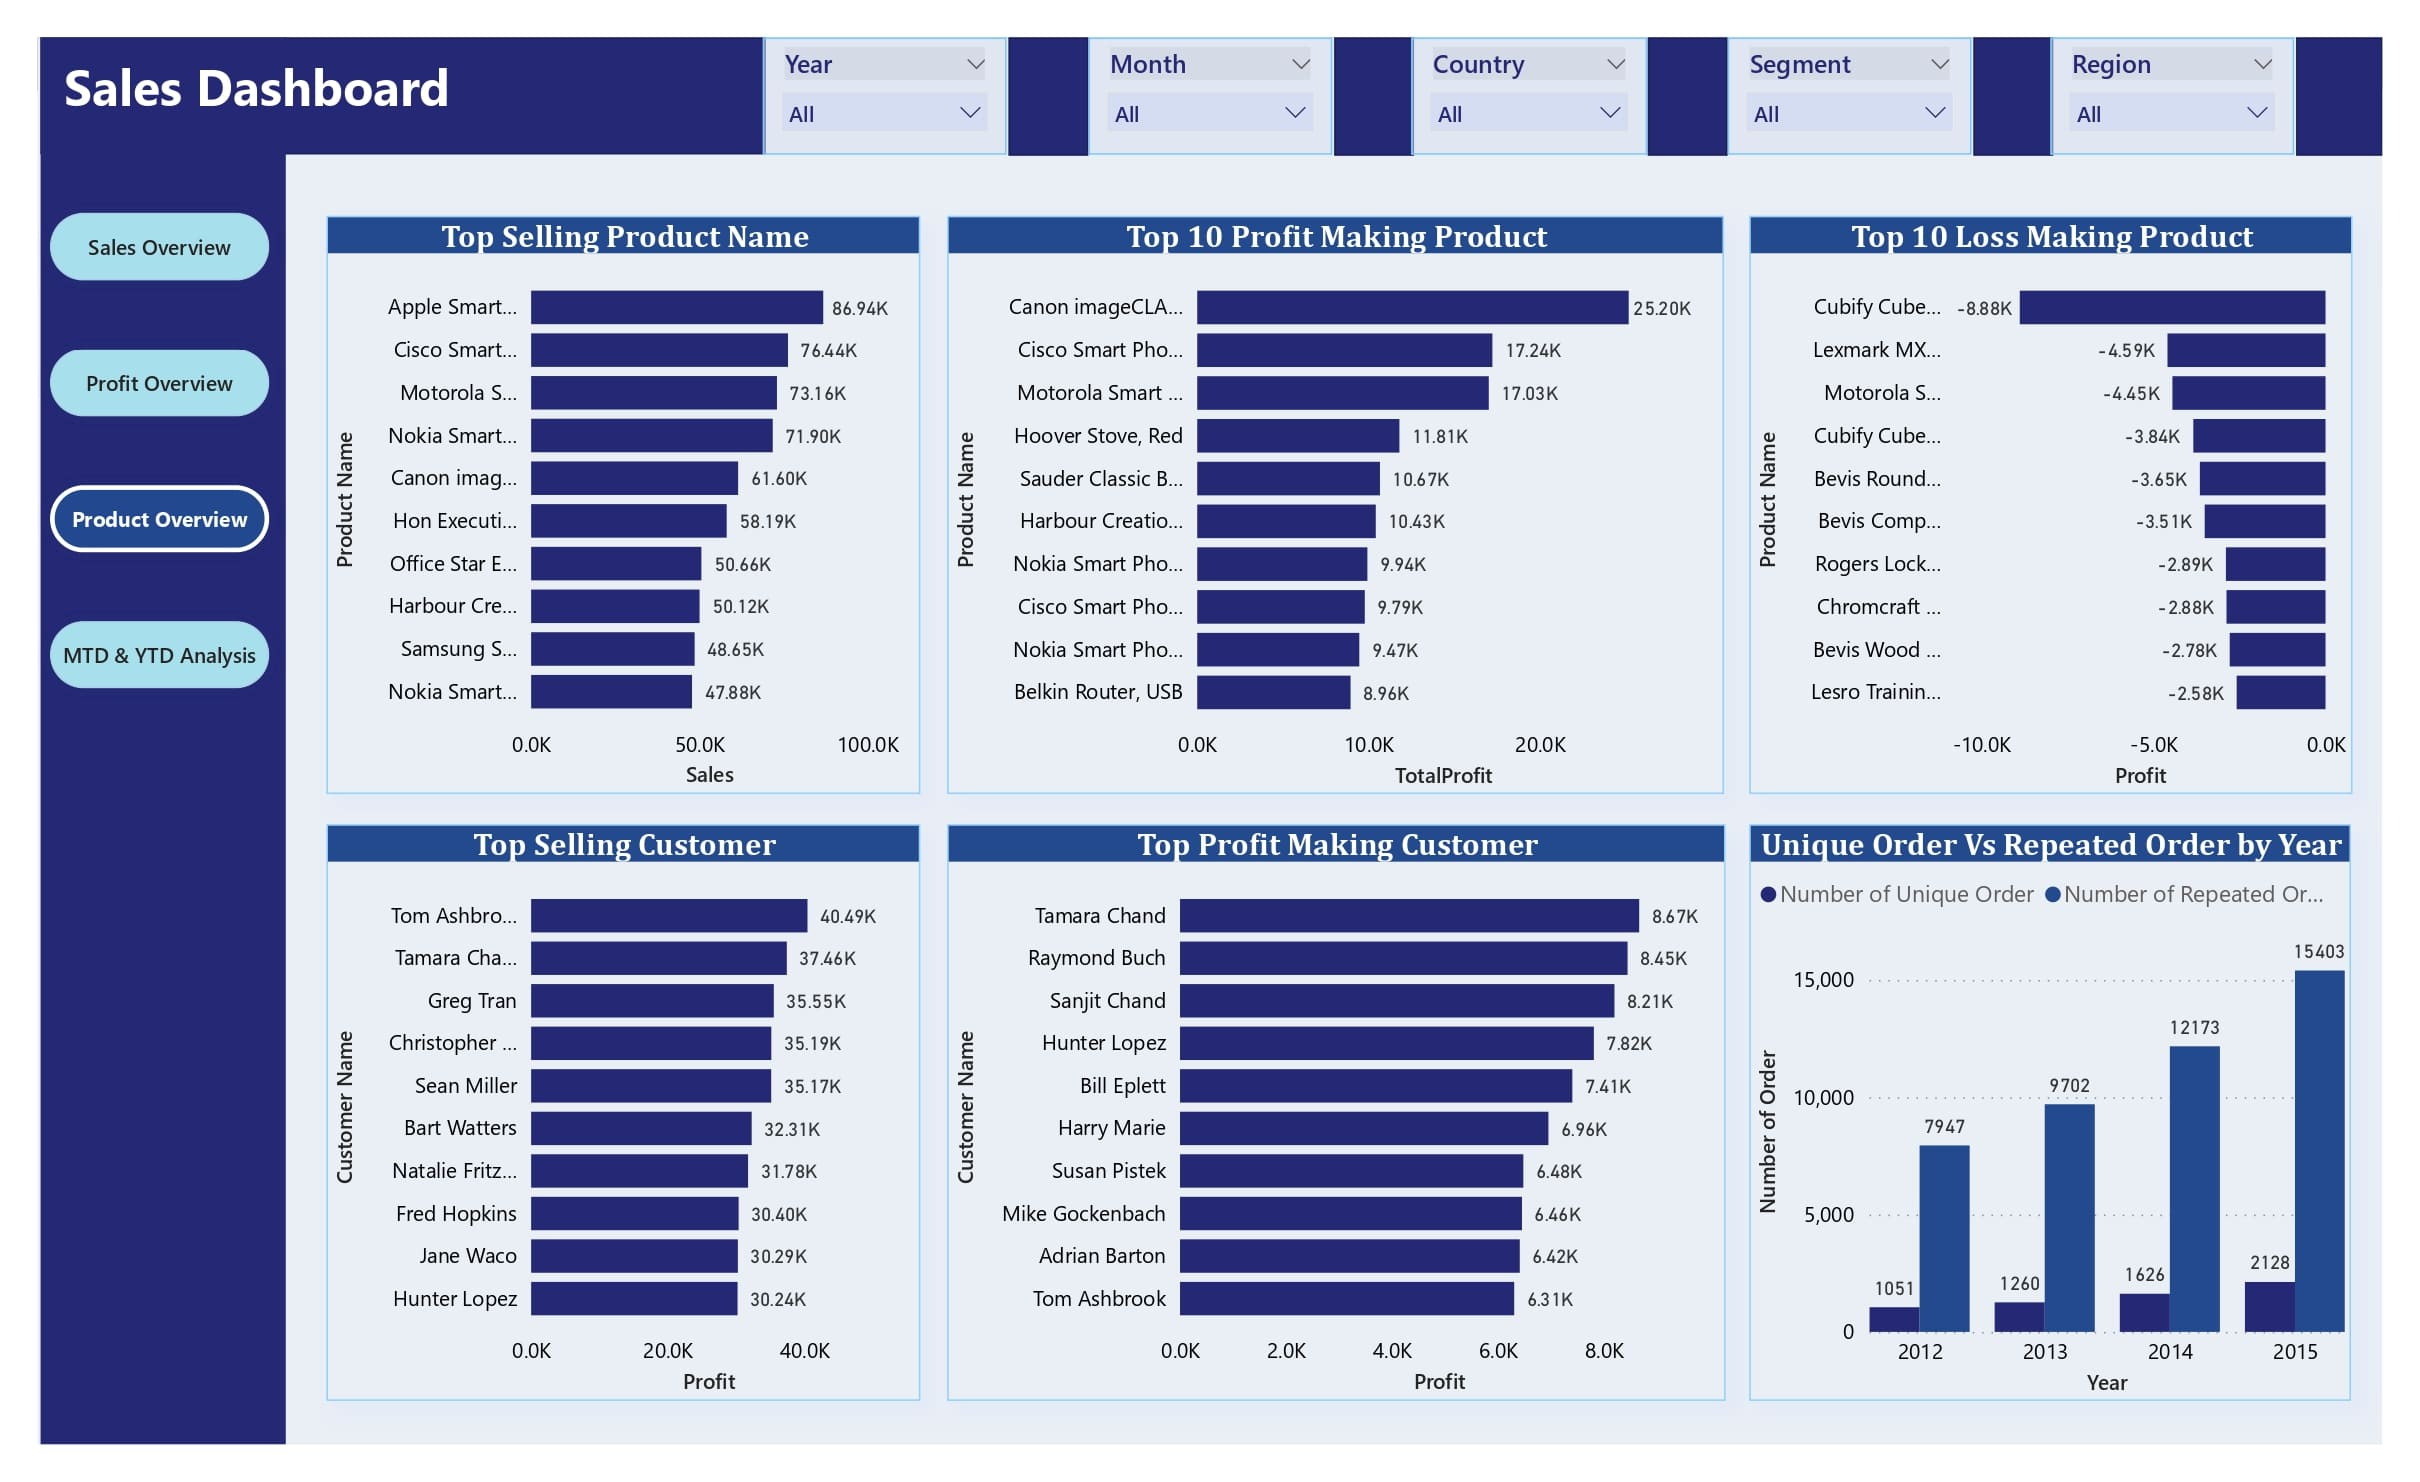

What the dashboard file says about the page in this screenshot:
{"tool":"powerbi","page":{"name":"Product Overview","canvas":[1500,900],"ordinal":2},"visuals":[{"type":"group","id":"g1","title":"Box","box":[1.1,0,1498.9,900],"z":0},{"type":"shape","box":[621.3,0,51.1,75.5],"z":0,"group":"g1"},{"type":"slicer","fields":{"Values":["Orders.Country"]},"box":[878.3,0,151.2,74.7],"z":0,"group":"g2"},{"type":"shape","box":[1.1,0,463.9,74.7],"z":1000,"group":"g1"},{"type":"slicer","fields":{"Values":["Calendar.Year"]},"box":[463.9,0,156.4,74.7],"z":1000,"group":"g2"},{"type":"clusteredBarChart","title":"Top Profit Making Customer","fields":{"Category":["Orders.Customer Name"],"Y":["Orders.TotalProfit"]},"box":[581.5,503.7,498.1,368.5],"z":1000},{"type":"shape","box":[1.1,0,156.9,900],"z":2000,"group":"g1"},{"type":"slicer","fields":{"Values":["Calendar.Date.Variation.Date Hierarchy.Month"]},"box":[671.1,0,156.4,74.7],"z":2000,"group":"g2"},{"type":"clusteredBarChart","title":"Top 10 Loss Making Product","fields":{"Category":["Orders.Product Name"],"Y":["Orders.TotalProfit"]},"box":[1094.7,114.4,385.7,370.1],"z":2000},{"type":"shape","box":[1444.7,0,55.3,75.5],"z":3000,"group":"g1"},{"type":"textbox","box":[11.2,4.8,453.7,87.2],"z":3000,"group":"g2"},{"type":"clusteredBarChart","title":"Top Selling Product Name","fields":{"Category":["Orders.Product Name"],"Y":["Orders.Sales_Amount"]},"box":[184.3,114.5,380.4,369.6],"z":3000},{"type":"shape","box":[1029.8,0,51.1,75.5],"z":4000,"group":"g1"},{"type":"slicer","fields":{"Values":["Orders.Segment"]},"box":[1080.3,0,156.4,74.7],"z":4000,"group":"g2"},{"type":"clusteredBarChart","title":"Top 10 Profit Making Product","fields":{"Category":["Orders.Product Name"],"Y":["Orders.TotalProfit"]},"box":[582.2,114.4,496.9,370.1],"z":4000},{"type":"shape","box":[828.8,0,51.1,75.5],"z":5000,"group":"g1"},{"type":"slicer","fields":{"Values":["Orders.Region"]},"box":[1287.5,0,156.4,74.7],"z":5000,"group":"g2"},{"type":"clusteredBarChart","title":"Top Selling Customer","fields":{"Category":["Orders.Customer Name"],"Y":["Orders.Sales_Amount"]},"box":[185.2,503.7,379.6,368.5],"z":5000},{"type":"shape","box":[1237.3,0,51.1,75.5],"z":6000,"group":"g1"},{"type":"clusteredColumnChart","title":"Unique Order Vs Repeated Order by Year","fields":{"Category":["Calendar.Year"],"Y":["CountNonNull(Orders.Unique_Customer)","CountNonNull(Orders.Repeated_Customer)"]},"box":[1094.4,503.7,385.2,368.5],"z":6000},{"type":"pageNavigator","box":[0,103.9,156.9,323.5],"z":7000},{"type":"group","id":"g2","title":"Group 1","box":[11.2,0,1432.7,92],"z":8000}]}

Visuals, with their boxes on the page's 1500x900 design canvas (x1, y1, x2, y2). These are canvas units, not pixel positions in the 2420x1482 screenshot, which may show the page scaled, cropped or inside an application window:
"Box" group: bbox=(1, 0, 1500, 900)
shape: bbox=(621, 0, 672, 76)
slicer - Orders.Country: bbox=(878, 0, 1030, 75)
shape: bbox=(1, 0, 465, 75)
slicer - Calendar.Year: bbox=(464, 0, 620, 75)
"Top Profit Making Customer" clusteredBarChart: bbox=(582, 504, 1080, 872)
shape: bbox=(1, 0, 158, 900)
slicer - Calendar.Date.Variation.Date Hierarchy.Month: bbox=(671, 0, 828, 75)
"Top 10 Loss Making Product" clusteredBarChart: bbox=(1095, 114, 1480, 484)
shape: bbox=(1445, 0, 1500, 76)
textbox: bbox=(11, 5, 465, 92)
"Top Selling Product Name" clusteredBarChart: bbox=(184, 114, 565, 484)
shape: bbox=(1030, 0, 1081, 76)
slicer - Orders.Segment: bbox=(1080, 0, 1237, 75)
"Top 10 Profit Making Product" clusteredBarChart: bbox=(582, 114, 1079, 484)
shape: bbox=(829, 0, 880, 76)
slicer - Orders.Region: bbox=(1288, 0, 1444, 75)
"Top Selling Customer" clusteredBarChart: bbox=(185, 504, 565, 872)
shape: bbox=(1237, 0, 1288, 76)
"Unique Order Vs Repeated Order by Year" clusteredColumnChart: bbox=(1094, 504, 1480, 872)
pageNavigator: bbox=(0, 104, 157, 427)
"Group 1" group: bbox=(11, 0, 1444, 92)
